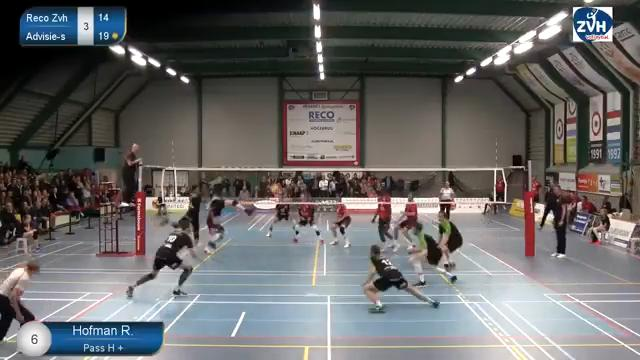Player: (126, 218, 196, 297), (363, 245, 439, 312), (205, 185, 254, 252), (409, 223, 456, 286), (371, 190, 398, 251), (293, 194, 323, 243), (438, 211, 462, 269), (393, 194, 417, 247), (184, 185, 201, 245), (330, 199, 351, 247), (267, 204, 289, 236)
ball: (270, 183, 279, 195)
